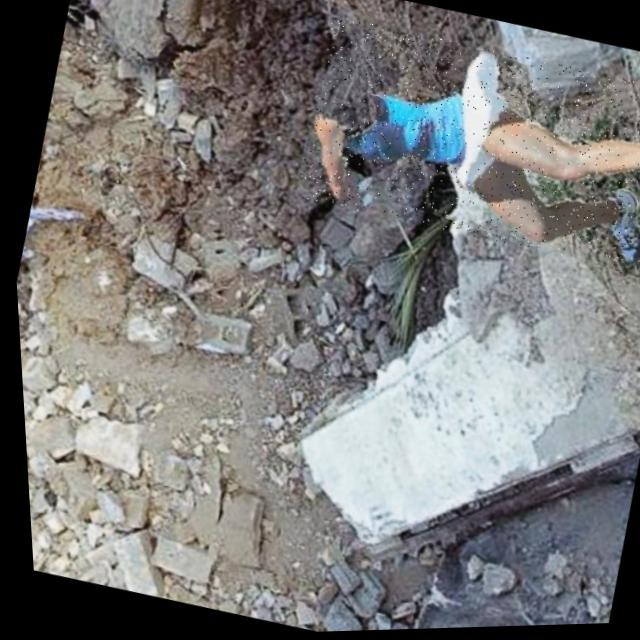Person in Rubble: (285, 8, 640, 290)
